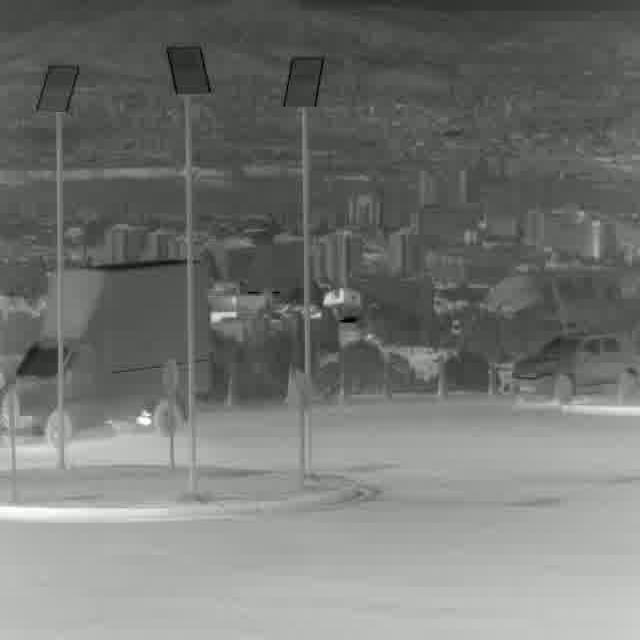Car: (1, 261, 208, 435), (516, 335, 638, 404)
